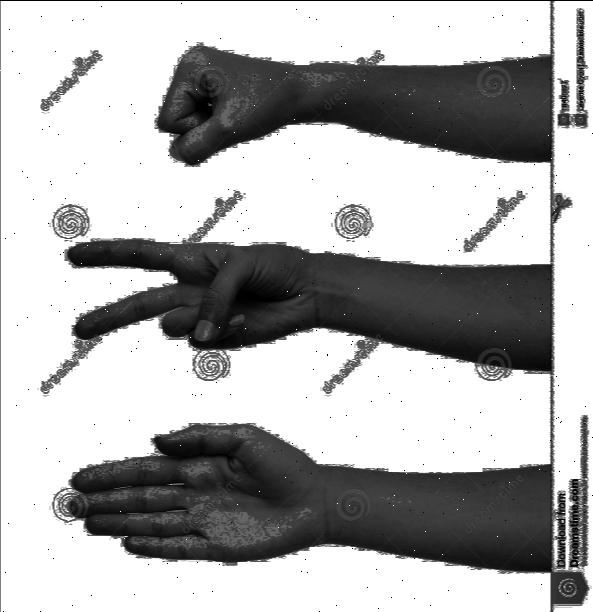Paper: (72, 420, 322, 562)
Rock: (152, 31, 305, 178)
Scissors: (53, 214, 342, 364)
